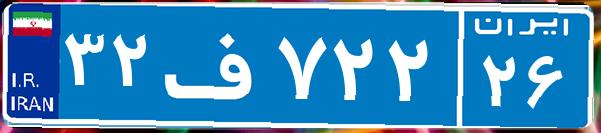2: (385, 28, 445, 110), (330, 28, 385, 110), (475, 38, 525, 113), (110, 28, 158, 105)
3: (57, 26, 110, 107)
6: (525, 38, 570, 115)
7: (273, 28, 330, 110)
ف: (158, 15, 273, 115)
